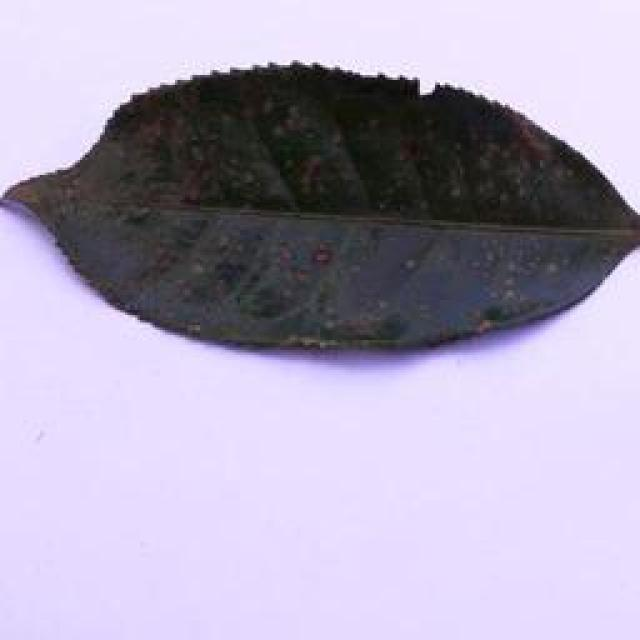Algal Leaf Spot: (6, 56, 640, 356)
